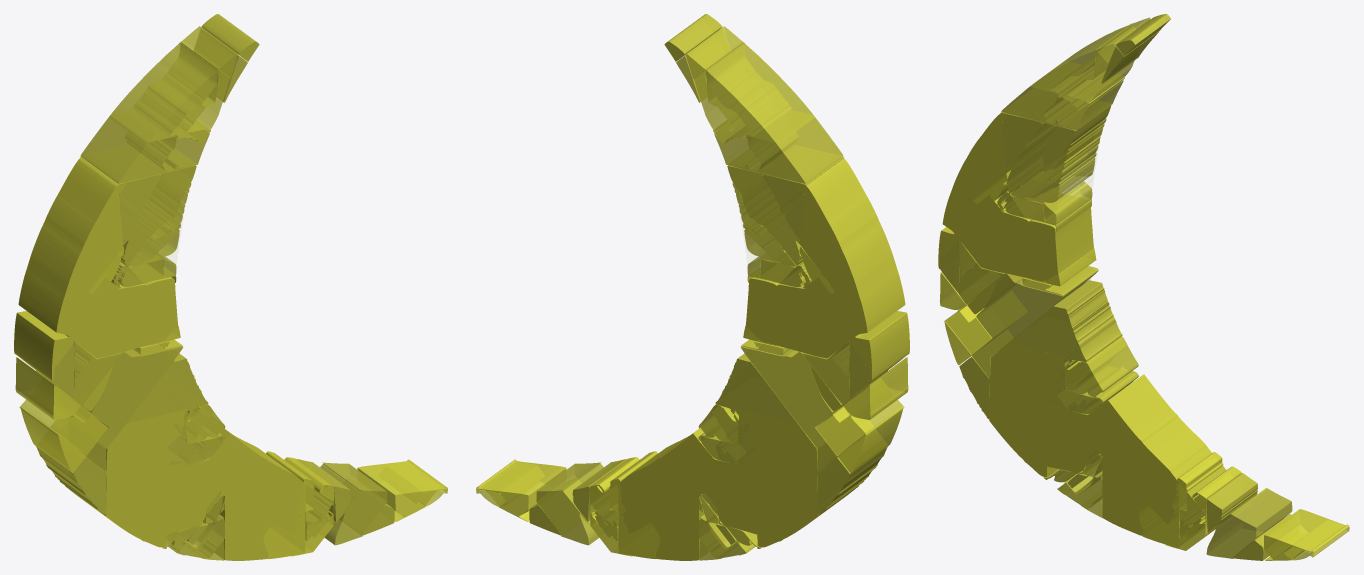
3 renders of one model, left to right at view 1: azimuth 30°, elevation 25°; view 2: azimuth 150°, elevation 25°; view 3: azimuth 330°, elevation 25°, orthographic. The views are drawn at different scales.
Visible parts, largest first — view 1: Model; view 2: Model; view 3: Model.
Part boxes in pixels (x1=…): Model: x1=14, y1=14, x2=447, y2=560; Model: x1=476, y1=14, x2=909, y2=560; Model: x1=938, y1=14, x2=1349, y2=560.
Bounding box in the file's own units: 60.42 × 76.49 × 10.
